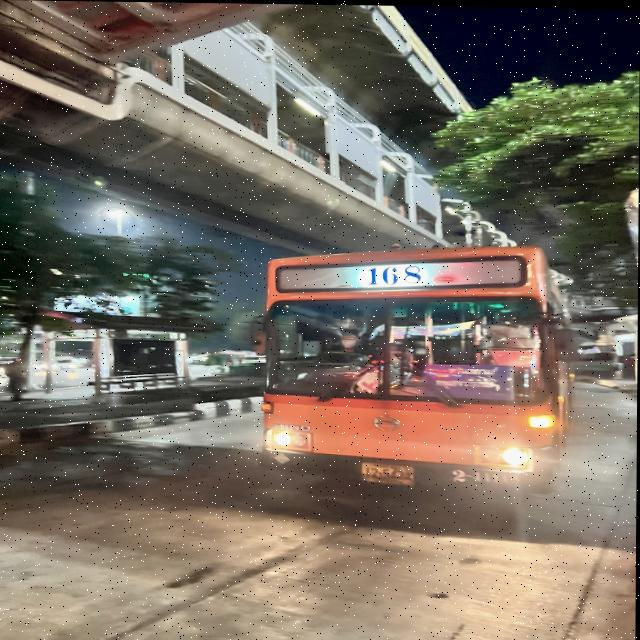BMTA-bus: (260, 243, 577, 492)
Bus-Line-Number: (358, 261, 429, 287)
Destination-Sign-Normal: (427, 361, 516, 399)
